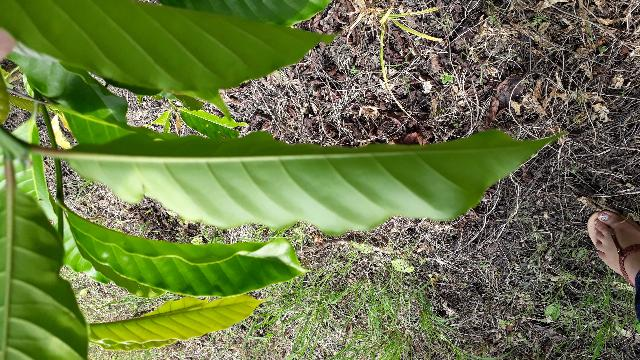healthy: (69, 130, 566, 238)
